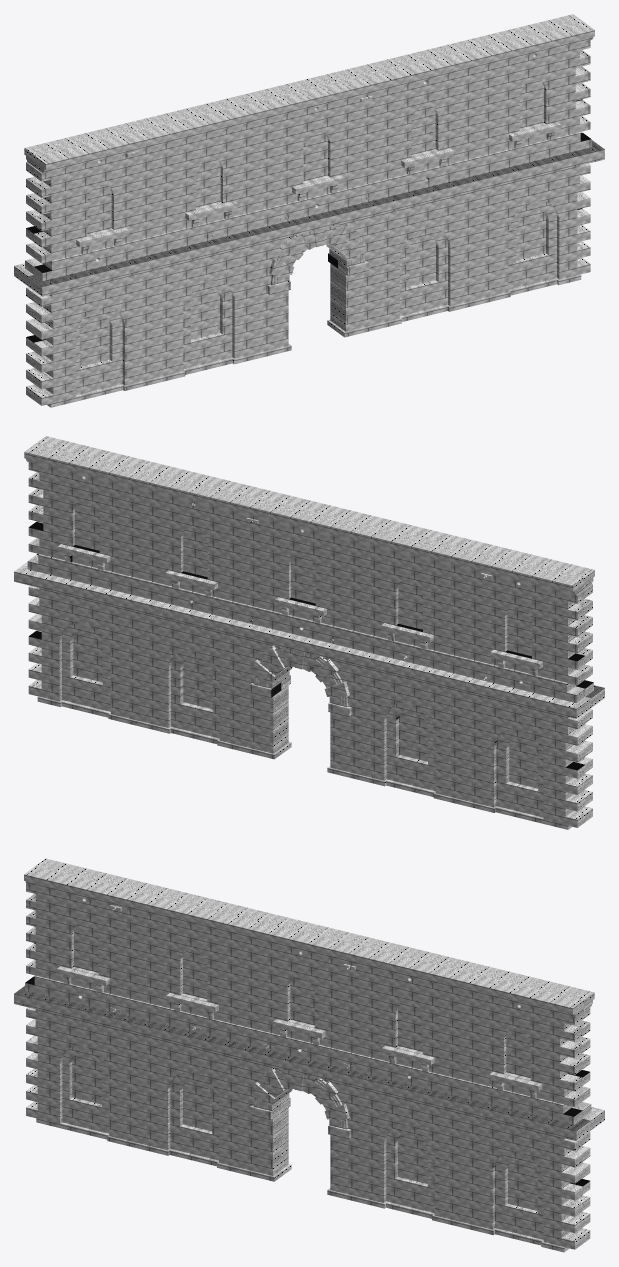
The model's file is TestingTiles3 (2).fbx.
The picture shows the model from 3 angles, top to bottom: view 1: azimuth 30°, elevation 25°; view 2: azimuth 150°, elevation 25°; view 3: azimuth 330°, elevation 25°; orthographic projection.
Parts seen in each view (by area): view 1: Cube.6803; view 2: Cube.6803; view 3: Cube.6803.
Part boxes in pixels (x1,y1,x2,y2): Cube.6803: (14, 14, 604, 407); Cube.6803: (14, 436, 604, 829); Cube.6803: (14, 858, 604, 1252).
Size of the model in its own units: 14.66 by 1.29 by 6.19.
Materials: 1 (1 with a texture image).
